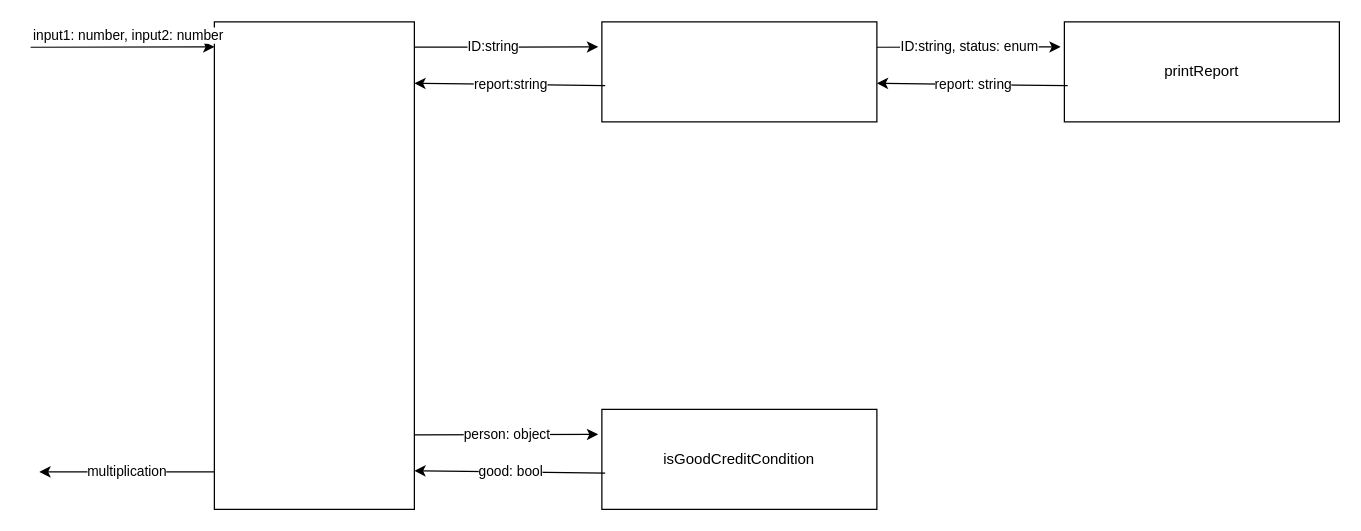
This 1361x531 diagram has some shape labels left out. Here are the shapes that lost their labels. From the top down, the centre of each, then its label:
At point (739, 71): "getReportByID".
At point (313, 265): "getMultiplicationTable".
